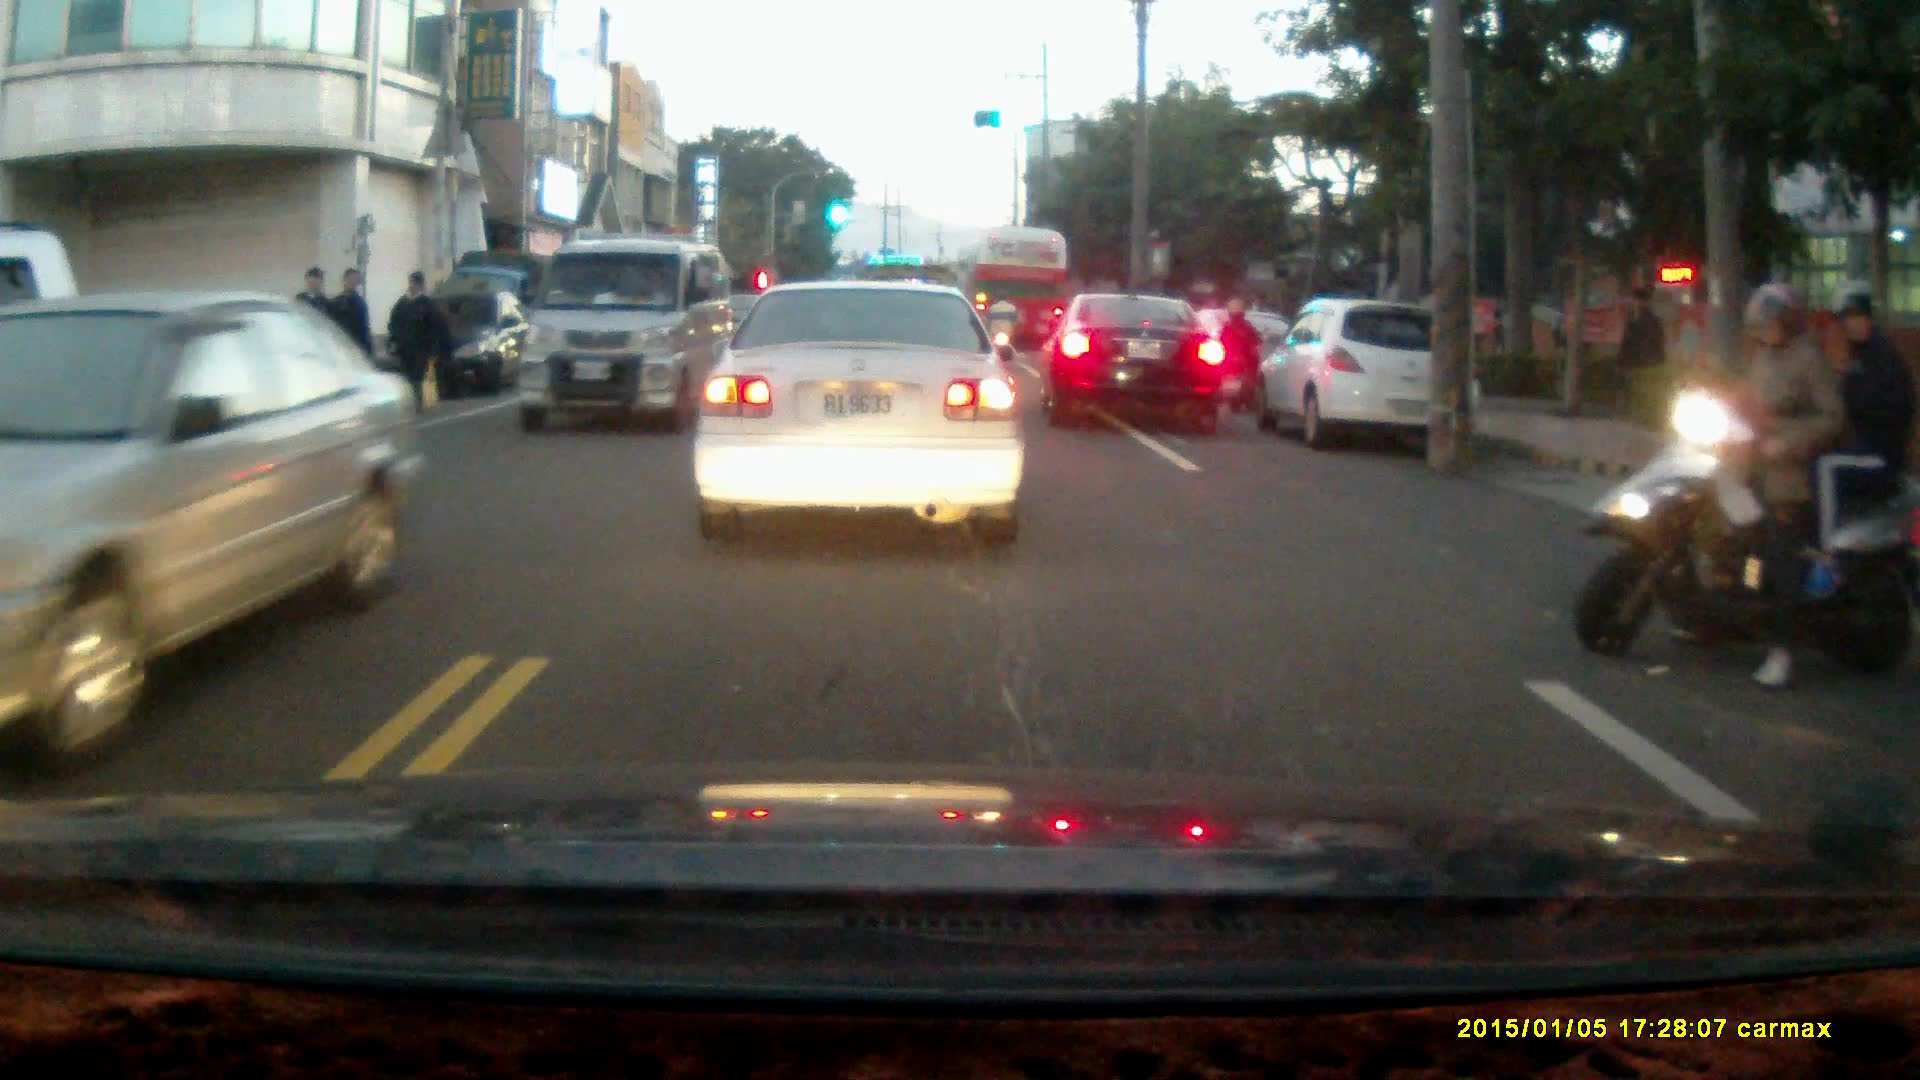pedestrian: (312, 263, 370, 434), (385, 268, 443, 418), (1619, 285, 1672, 420)
rider: (1570, 283, 1916, 689), (1216, 295, 1268, 413), (983, 290, 1022, 371)
vehicle: (1, 292, 439, 776), (690, 278, 1030, 550), (515, 235, 738, 437), (1251, 296, 1484, 453), (1041, 297, 1232, 437), (378, 285, 543, 401), (973, 224, 1072, 368)
